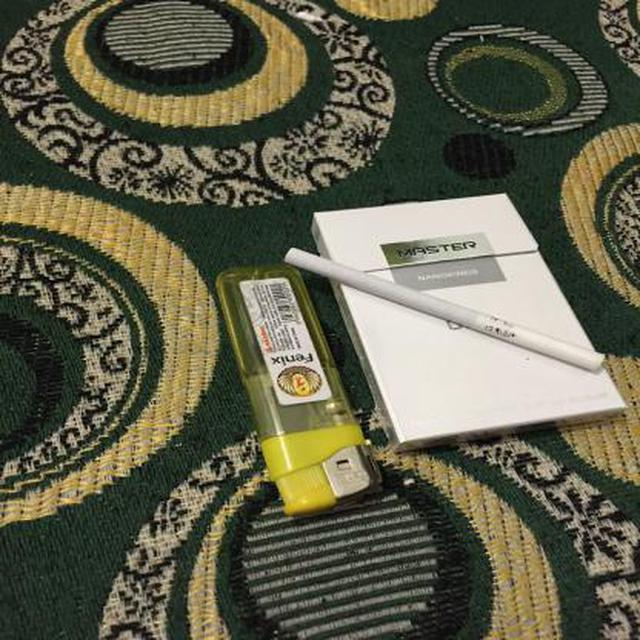smoking: (283, 246, 609, 373)
